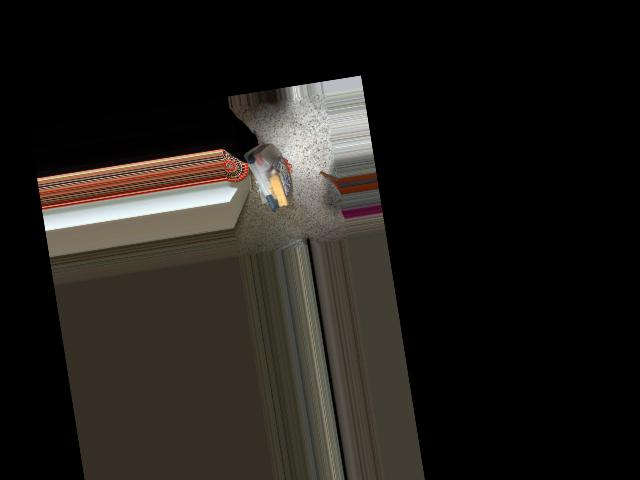cheese: (237, 141, 296, 217)
